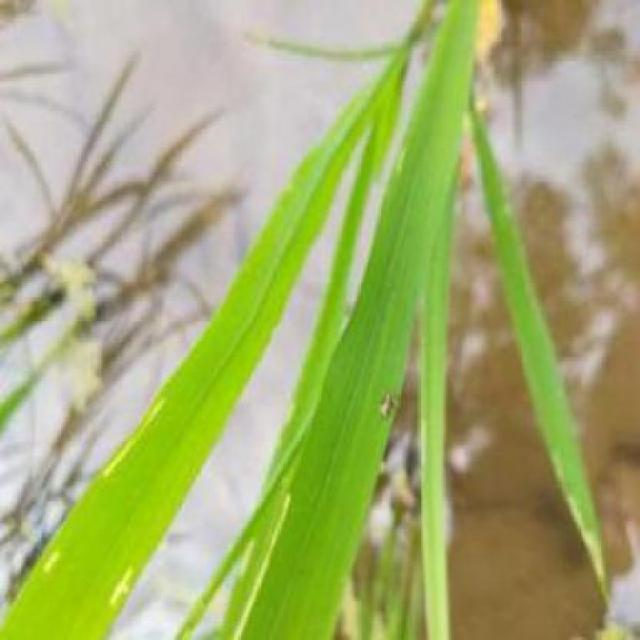rice-bug: (378, 385, 402, 423)
